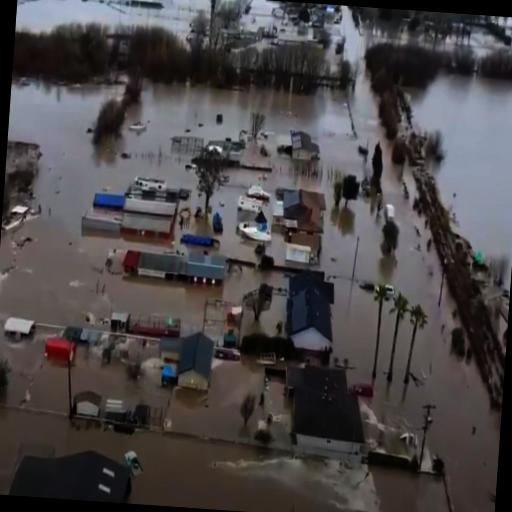flood: (0, 71, 501, 512), (405, 73, 512, 290), (15, 0, 210, 40), (341, 5, 462, 59), (210, 167, 260, 260), (241, 278, 288, 337), (262, 180, 286, 264), (470, 25, 512, 56), (245, 0, 278, 31)
house: (280, 361, 370, 472), (6, 444, 138, 504), (120, 244, 228, 290), (283, 272, 337, 358), (118, 172, 182, 240), (155, 330, 215, 394), (282, 186, 322, 222), (282, 232, 317, 269), (290, 139, 322, 178), (92, 188, 126, 212)
